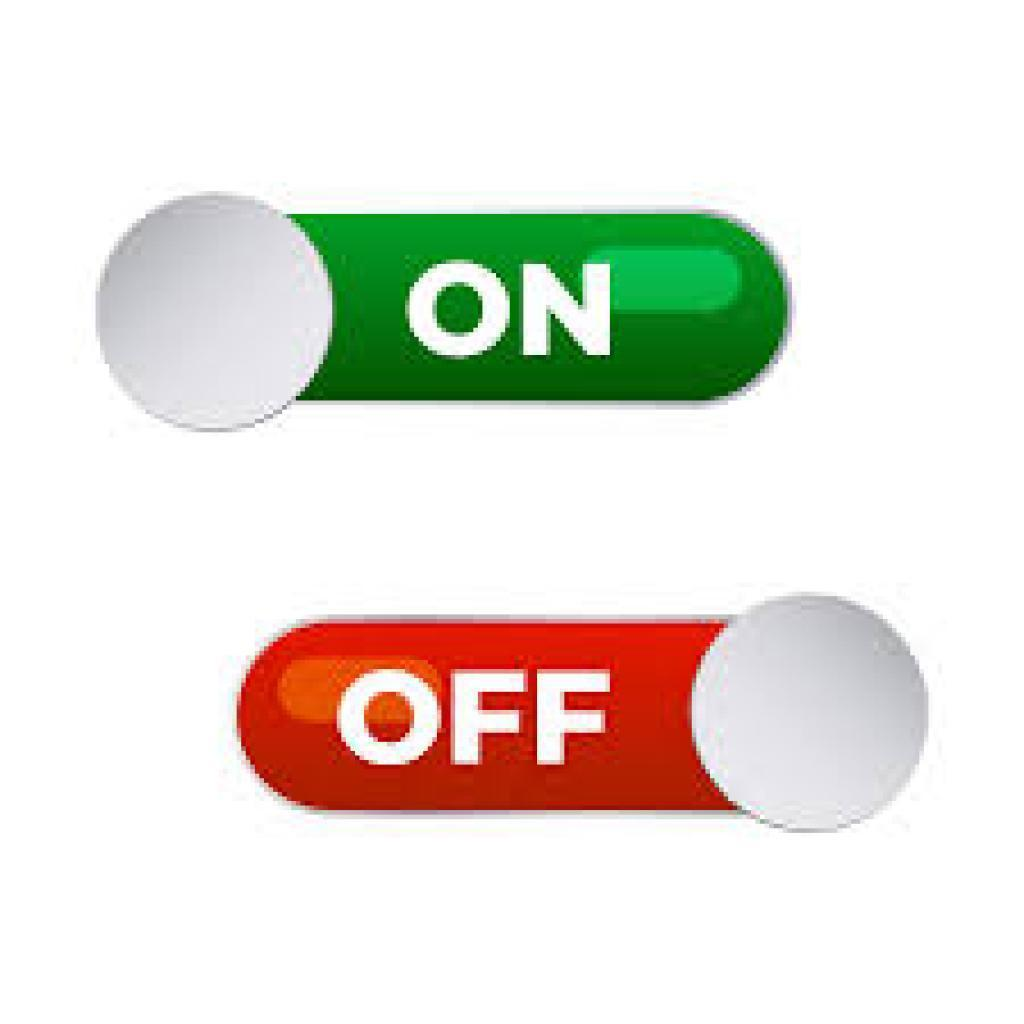switch: (94, 194, 791, 430), (236, 596, 925, 833)
